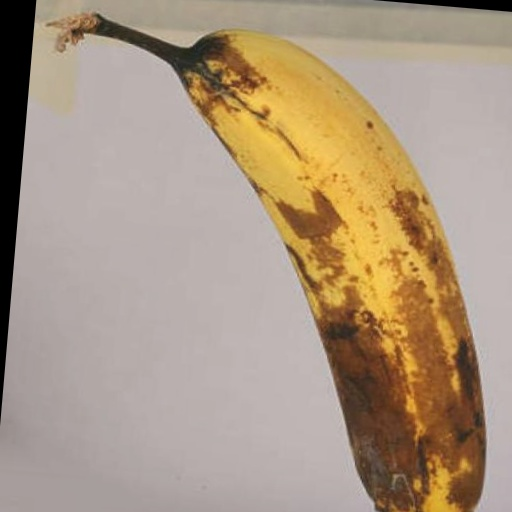fruit: (53, 14, 485, 512)
